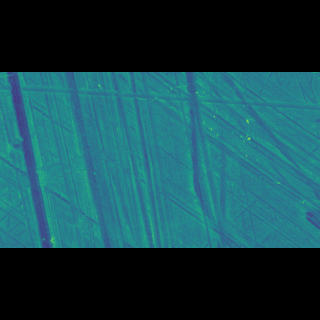Loch: (0, 133, 320, 180), (0, 116, 320, 133)
